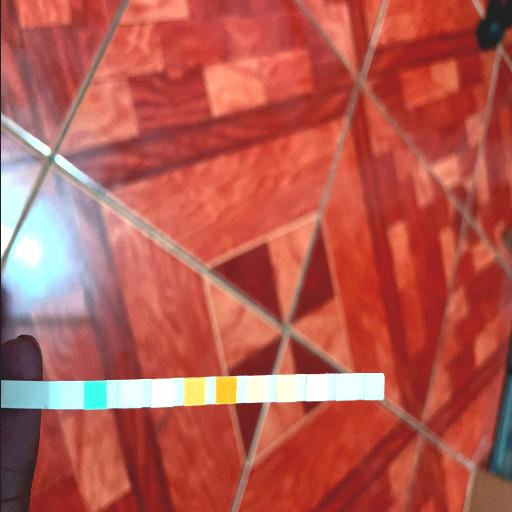Bilirubin: (118, 380, 140, 408)
Blood: (216, 377, 236, 403)
Glucose: (83, 381, 106, 409)
Ketone: (150, 378, 172, 406)
Leukocytes: (364, 374, 382, 400)
Nitrite: (335, 374, 353, 400)
Protein: (276, 375, 296, 402)
SpGravity: (184, 378, 204, 404)
Urobilinogen: (306, 374, 324, 400)
pH: (246, 376, 266, 402)
strip: (0, 373, 384, 409)
